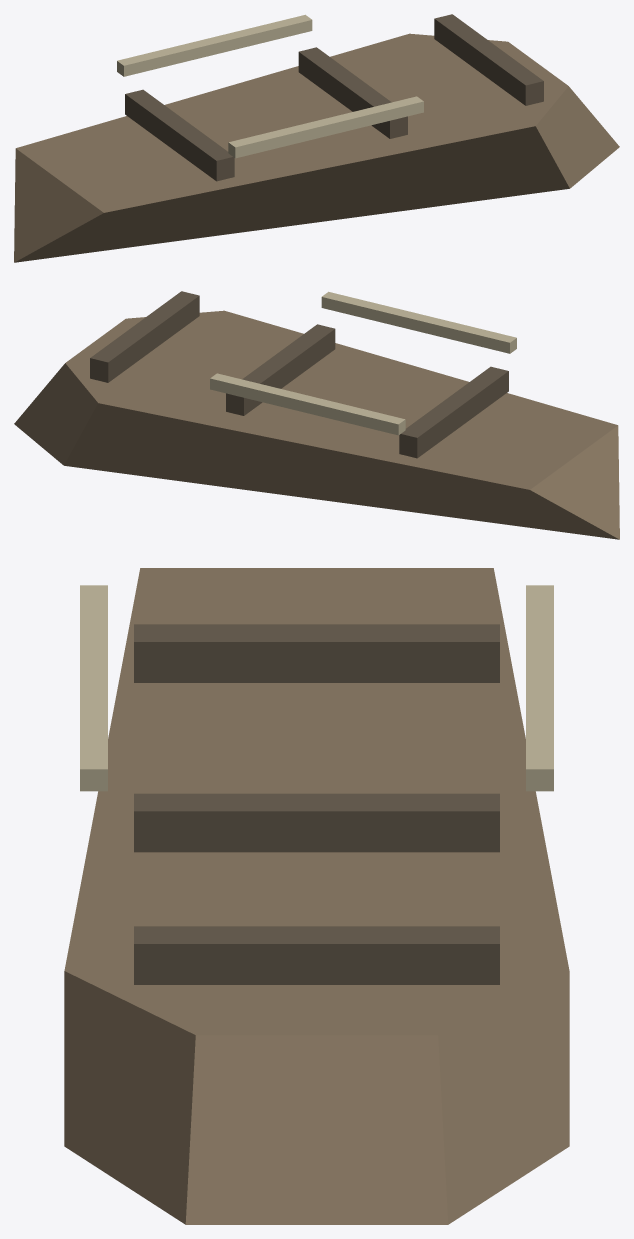
The model's file is rowboat_beach_cove.glb.
3 views of the same model, one above another, from view 1: azimuth 30°, elevation 25°; view 2: azimuth 150°, elevation 25°; view 3: azimuth 270°, elevation 25° (orthographic). The views are drawn at different scales.
Parts seen in each view (by area): view 1: Rowboat_carved_hull.003, Rowboat_seat.011, Rowboat_seat.009, Rowboat_oar.007, Rowboat_oar.006, Rowboat_seat.010; view 2: Rowboat_carved_hull.003, Rowboat_seat.011, Rowboat_seat.009, Rowboat_oar.006, Rowboat_oar.007, Rowboat_seat.010; view 3: Rowboat_carved_hull.003, Rowboat_seat.010, Rowboat_seat.009, Rowboat_seat.011, Rowboat_oar.006, Rowboat_oar.007.
Boxes of the visible parts, x1,y1,x2,y2 form: Rowboat_carved_hull.003: (14,33,619,262); Rowboat_seat.011: (434,14,543,105); Rowboat_seat.009: (125,89,234,181); Rowboat_oar.007: (228,96,423,158); Rowboat_oar.006: (117,14,312,76); Rowboat_seat.010: (298,47,407,138); Rowboat_carved_hull.003: (14,310,619,539); Rowboat_seat.011: (90,291,199,382); Rowboat_seat.009: (399,366,508,458); Rowboat_oar.006: (210,373,405,435); Rowboat_oar.007: (321,291,516,353); Rowboat_seat.010: (226,324,335,415); Rowboat_carved_hull.003: (64,568,569,1224); Rowboat_seat.010: (134,793,499,852); Rowboat_seat.009: (134,624,499,682); Rowboat_seat.011: (134,926,499,984); Rowboat_oar.006: (526,585,553,791); Rowboat_oar.007: (80,585,107,791).
Bounding box in the file's own units: 3.8 × 0.755 × 1.45.
